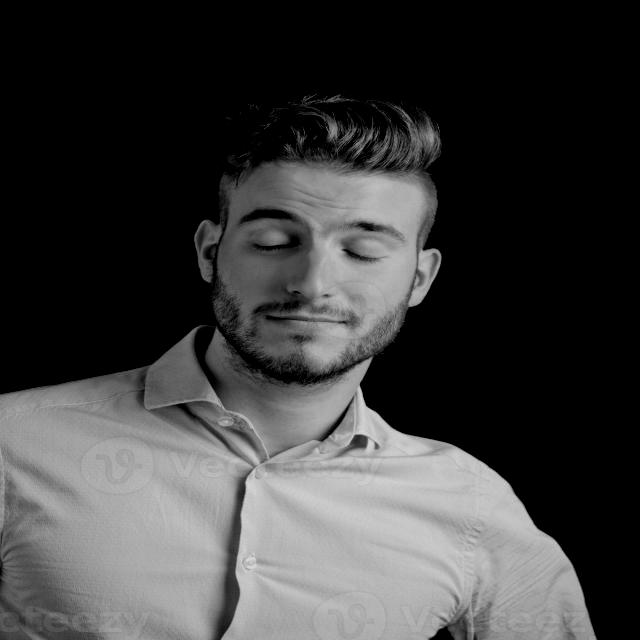real: (191, 95, 444, 387), (212, 196, 435, 258)
